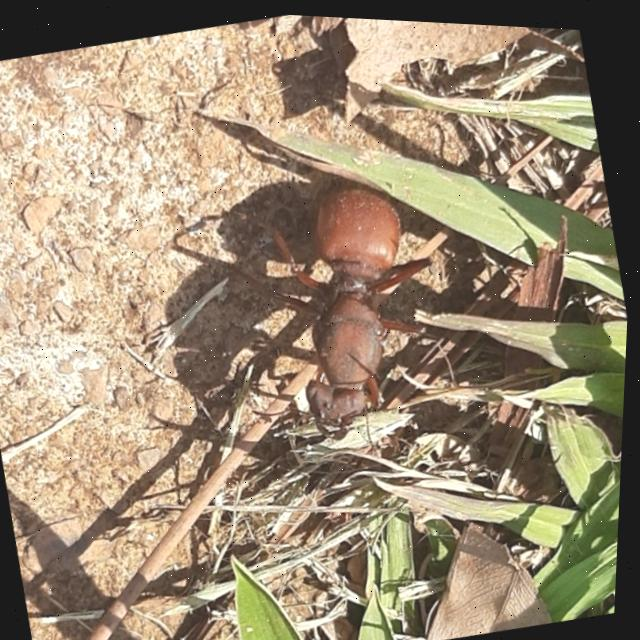Alive-Female-Dealate: (216, 160, 472, 462)
